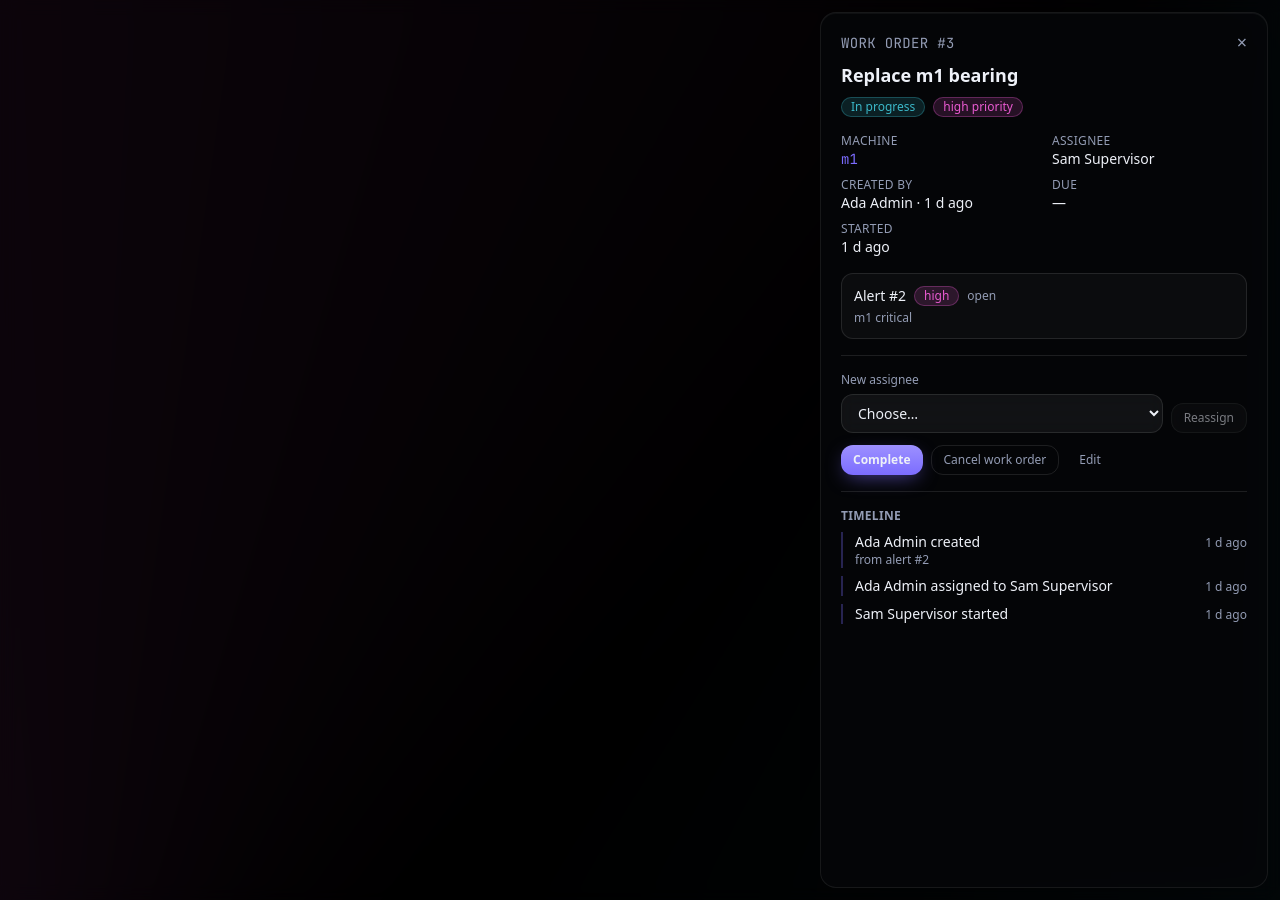
WorkOrderDrawer › closes the edit form without a request when nothing changed
Check: the heading "Replace m1 bearing" is shown, box [841,63,1018,87]
Click the button "Edit" at (1090, 460), box [1067,445,1113,475]
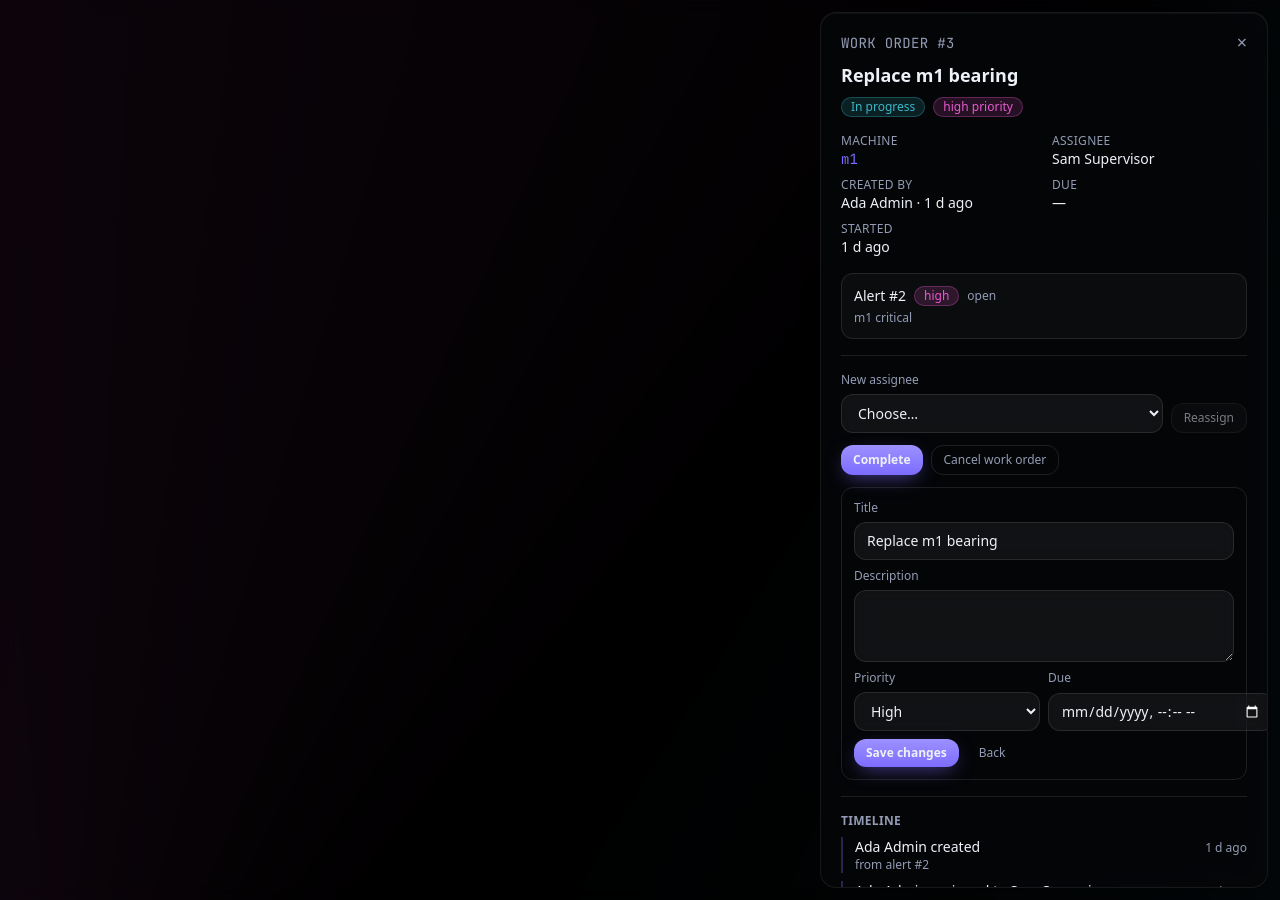
Click the button "Save changes" at (906, 753), box [854,739,959,767]
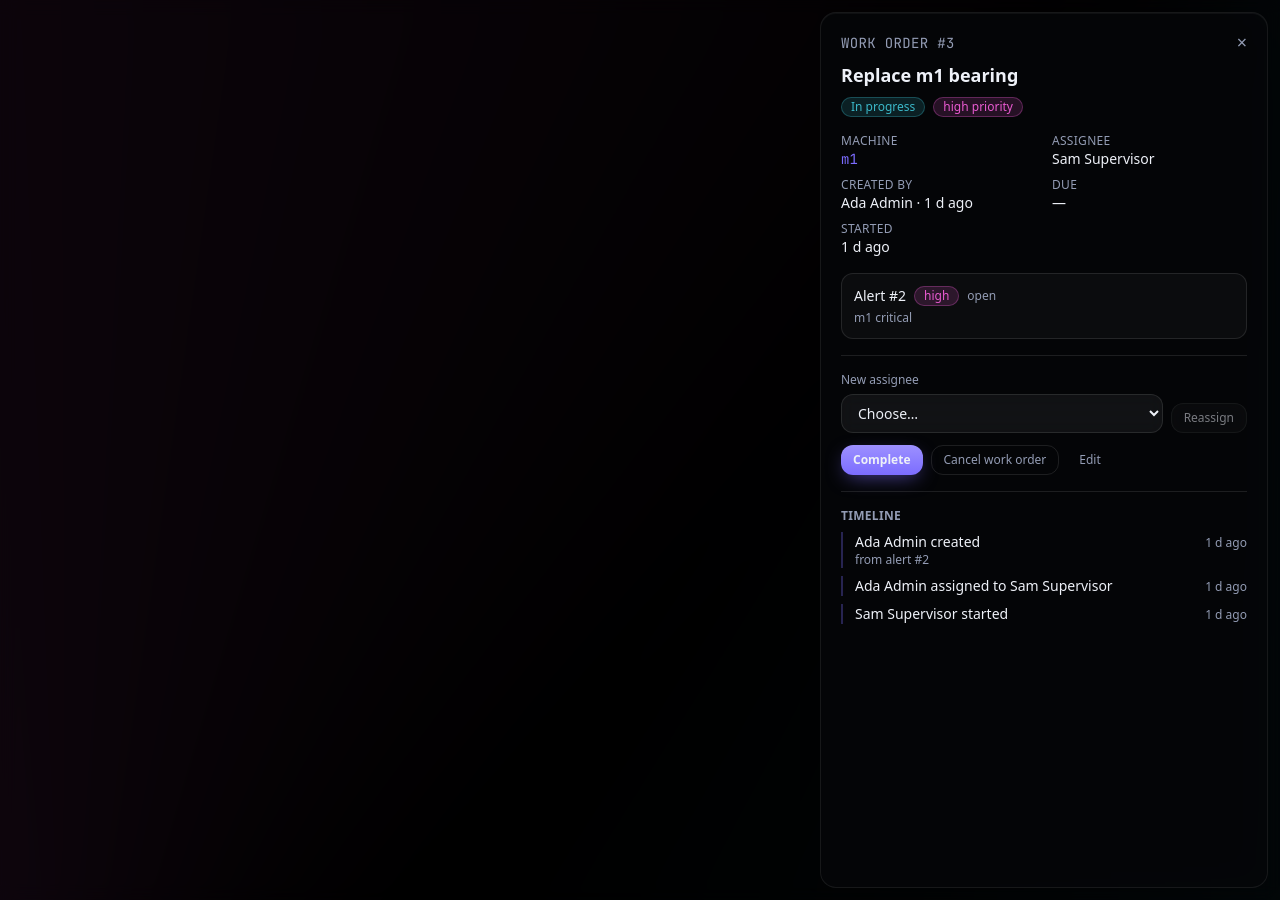
Check: the label labelled "Title" is gone
